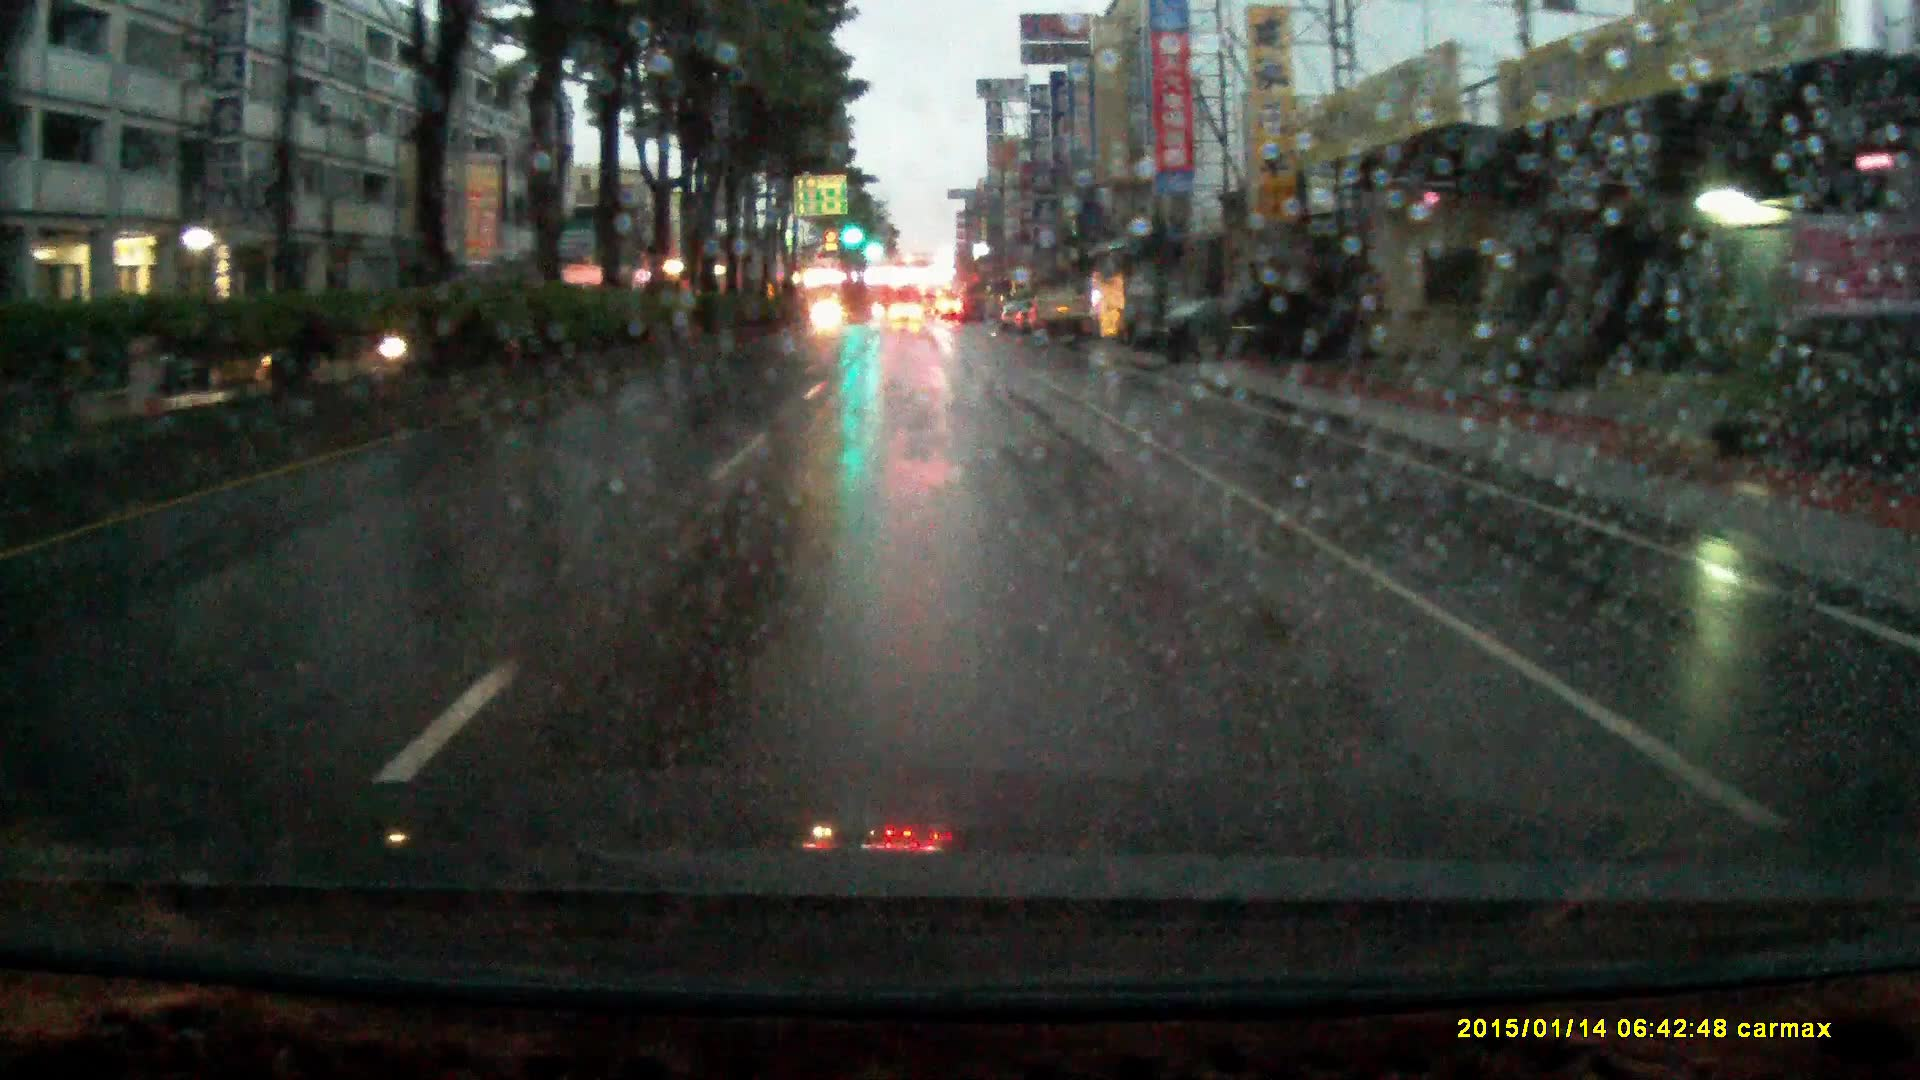vehicle: (1134, 298, 1371, 363), (1029, 289, 1096, 338), (886, 301, 928, 326), (810, 301, 847, 328)
